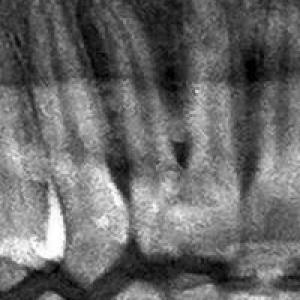tooth: (18, 0, 136, 294), (89, 0, 197, 266), (178, 0, 248, 271), (247, 2, 300, 290), (2, 75, 70, 298)
